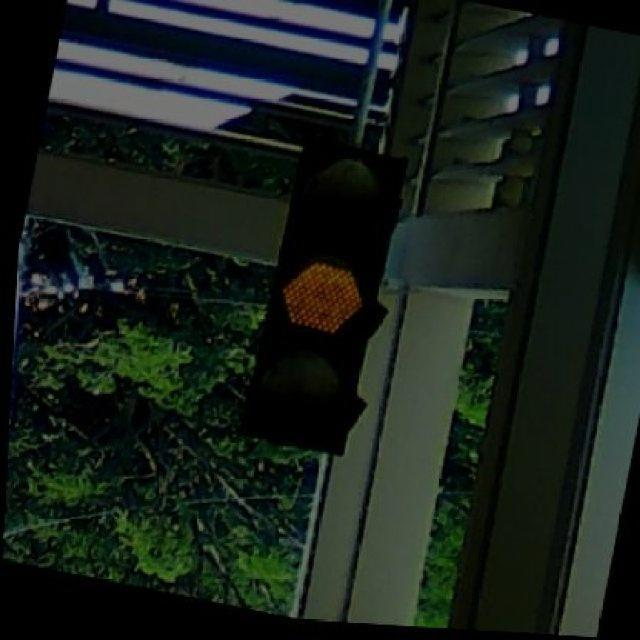Yellow: (233, 140, 408, 465)
